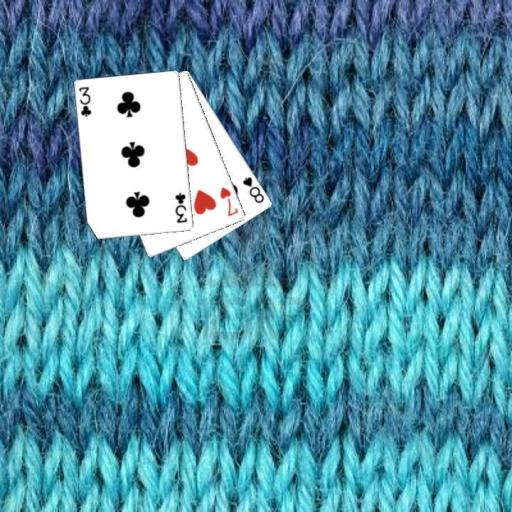3C: (172, 190, 189, 225), (76, 84, 93, 119)
7H: (217, 184, 240, 219)
8S: (240, 173, 266, 205)
